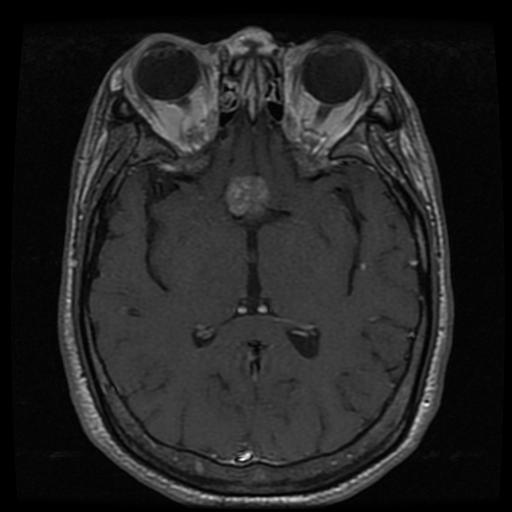Pituirity_tumour: (228, 175, 268, 213)
